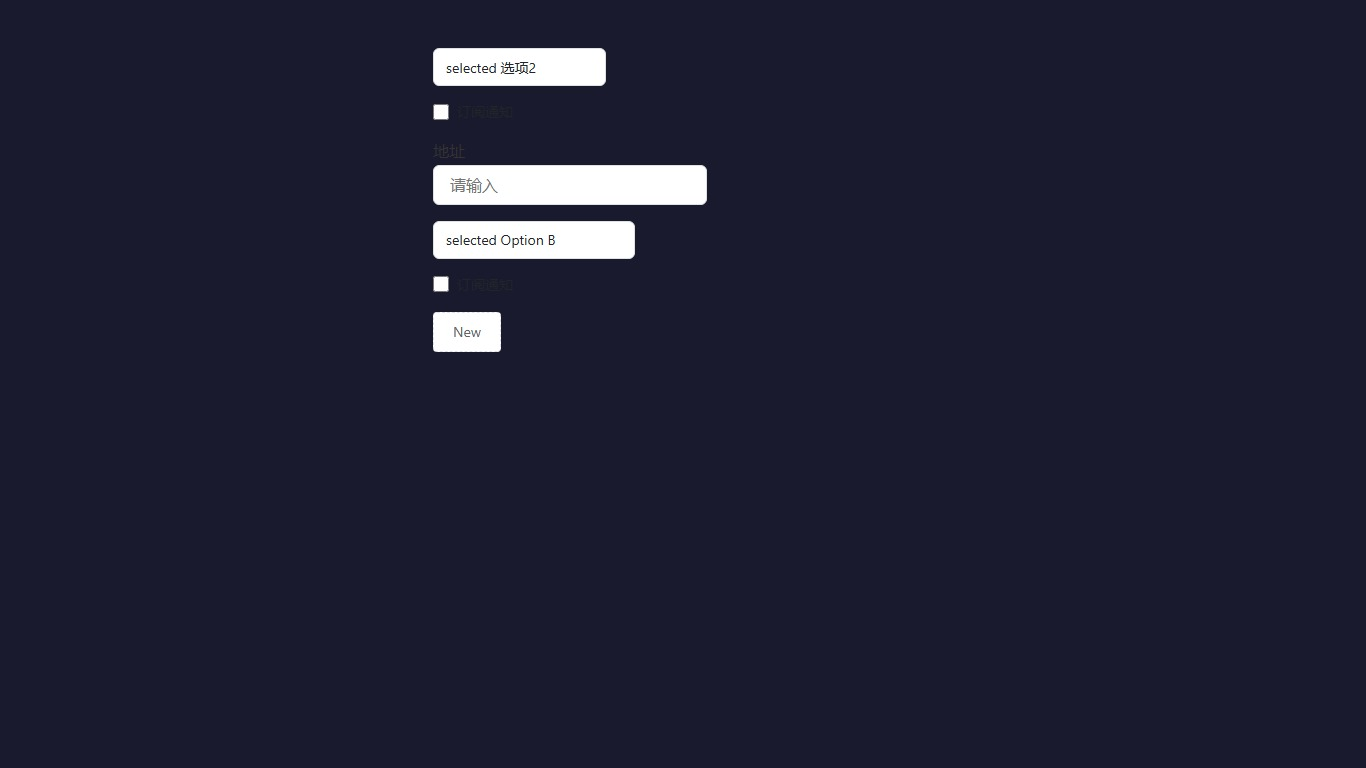button: (433, 312, 501, 352)
checkbox: (433, 103, 449, 119), (433, 276, 449, 292)
icon: (457, 102, 513, 121), (457, 275, 513, 294)
input: (433, 164, 707, 204)
radio: (433, 102, 513, 121), (433, 275, 513, 294)
select: (433, 221, 635, 258), (433, 48, 606, 86)
